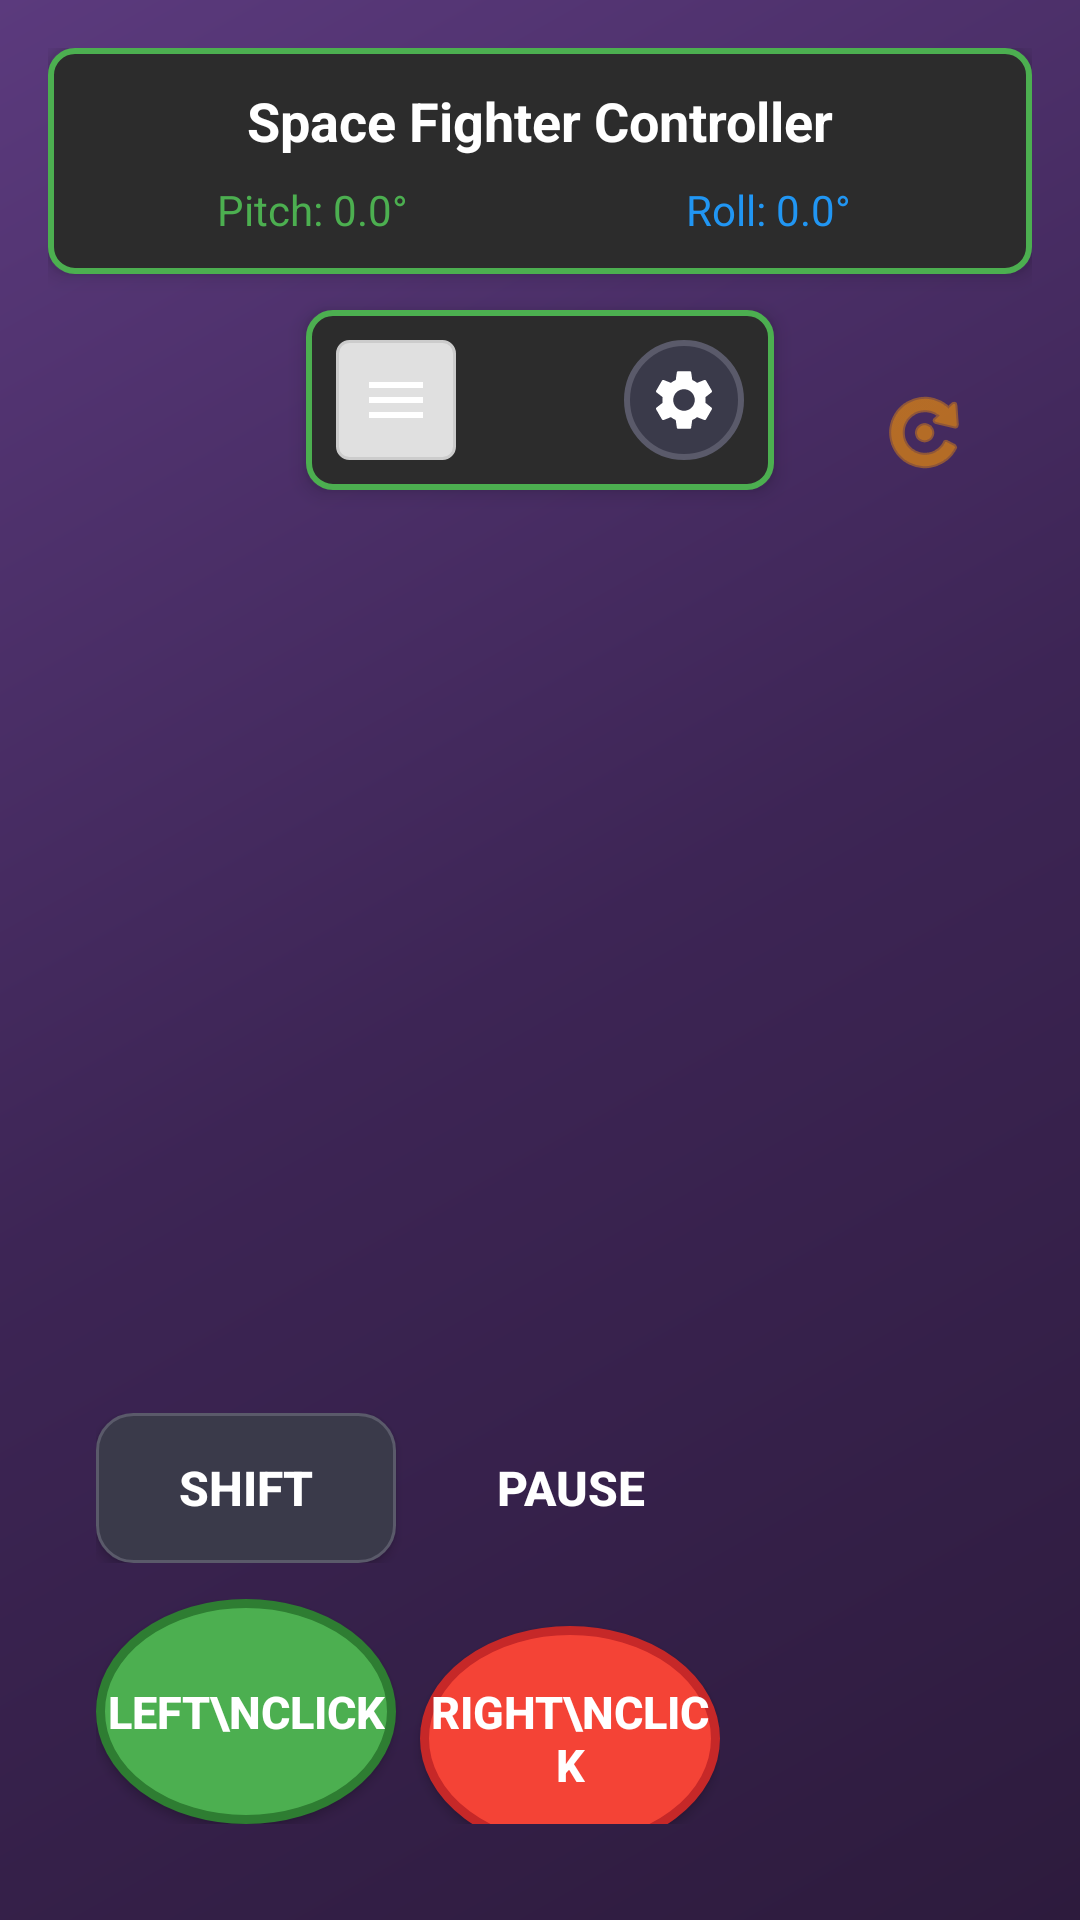

Icon click points for this 1080px x 1920px phone screenshot, format point (x, y):
Menu: point (396, 400)
Options: point (684, 400)
